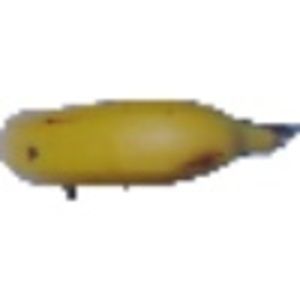banana: (2, 94, 280, 191)
